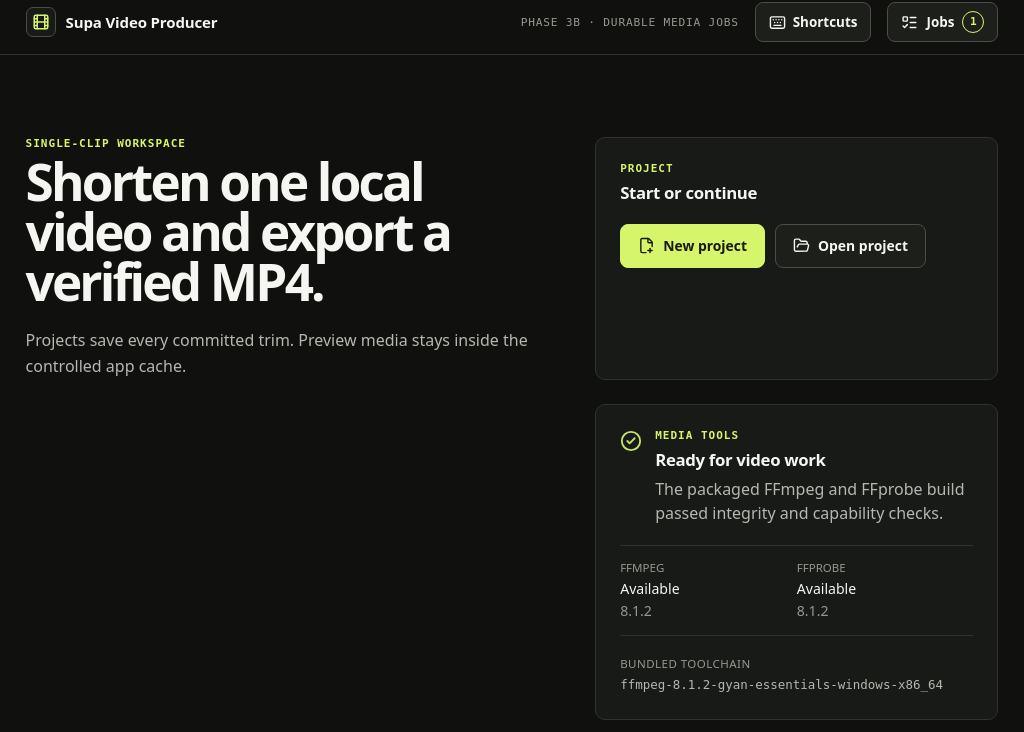
it: complete mocked Phase 2 workflow › keeps readiness valid after an ordinary render process failure
Expected: the heading "Ready for video work" is shown, [655,448,826,471]
What coordinates should you click on to do the following:
click the button "New project"
I would click on:
 (693, 246)
Its box is [620,224,765,268].
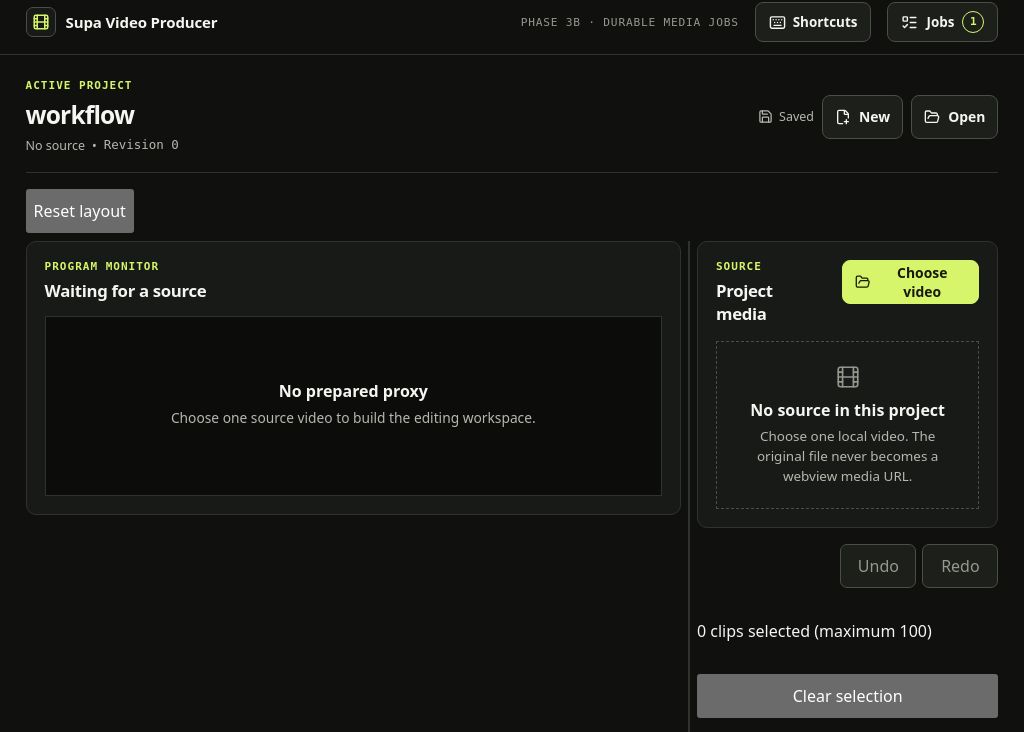
Expected: the heading "Project media" is shown, [716,279,773,325]
What coordinates should you click on to do the following:
click the button "Choose video"
I would click on:
 (910, 282)
Its box is [842,260,979,304].
(page scrolled)
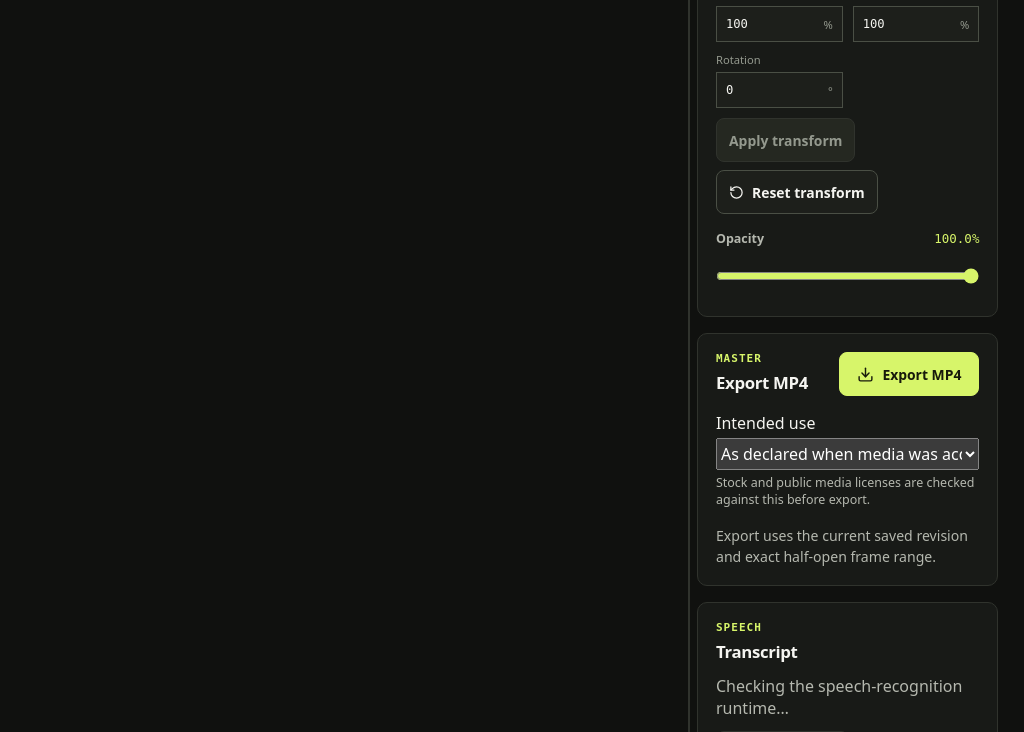
What coordinates should you click on to do the following:
click the button "Export MP4"
I would click on:
 (909, 374)
Its box is [839,352,979,396].
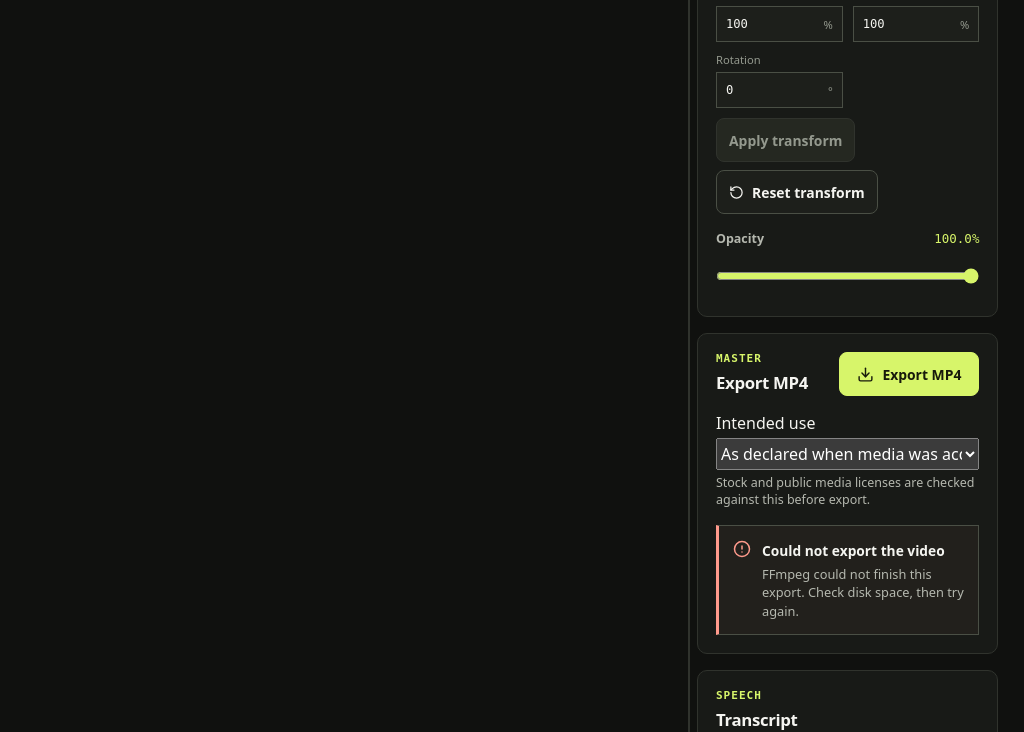
Expected: the button "Export MP4" is enabled, [839,352,979,396]
Expected: the text "FFmpeg could not finish this export. Check disk space, then try again." is shown, [762,565,964,620]
